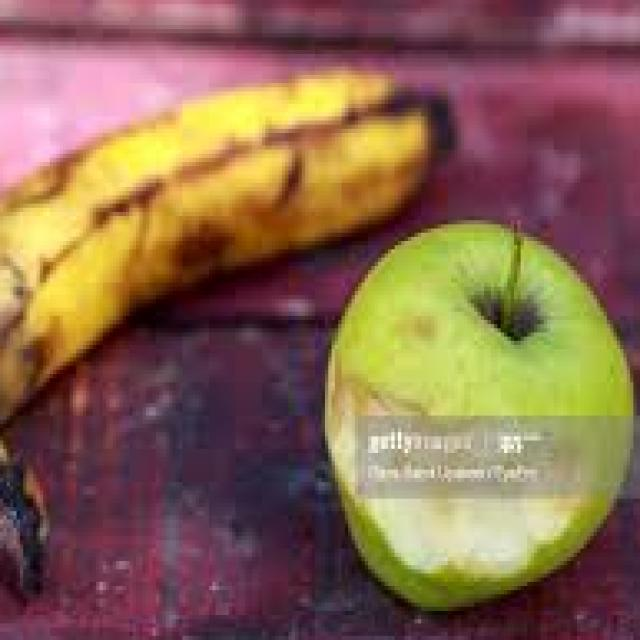inorganic: (7, 56, 467, 481), (296, 189, 634, 598)
